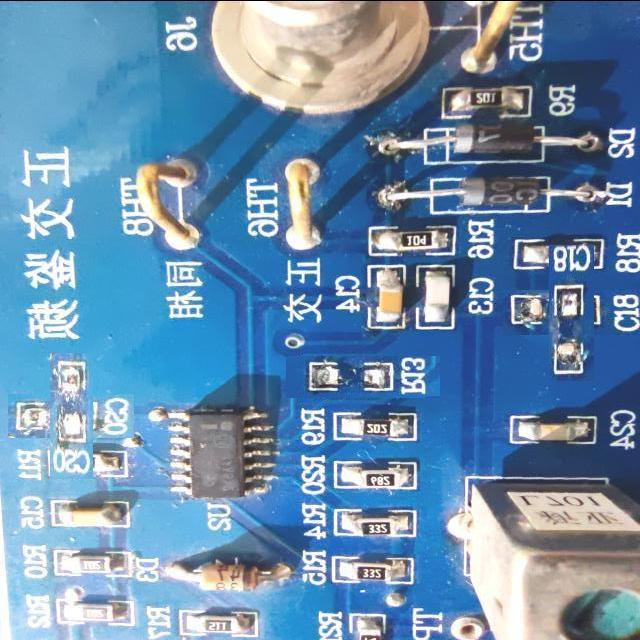miss_welding: (526, 267, 617, 358), (28, 374, 114, 458), (286, 356, 441, 398)
